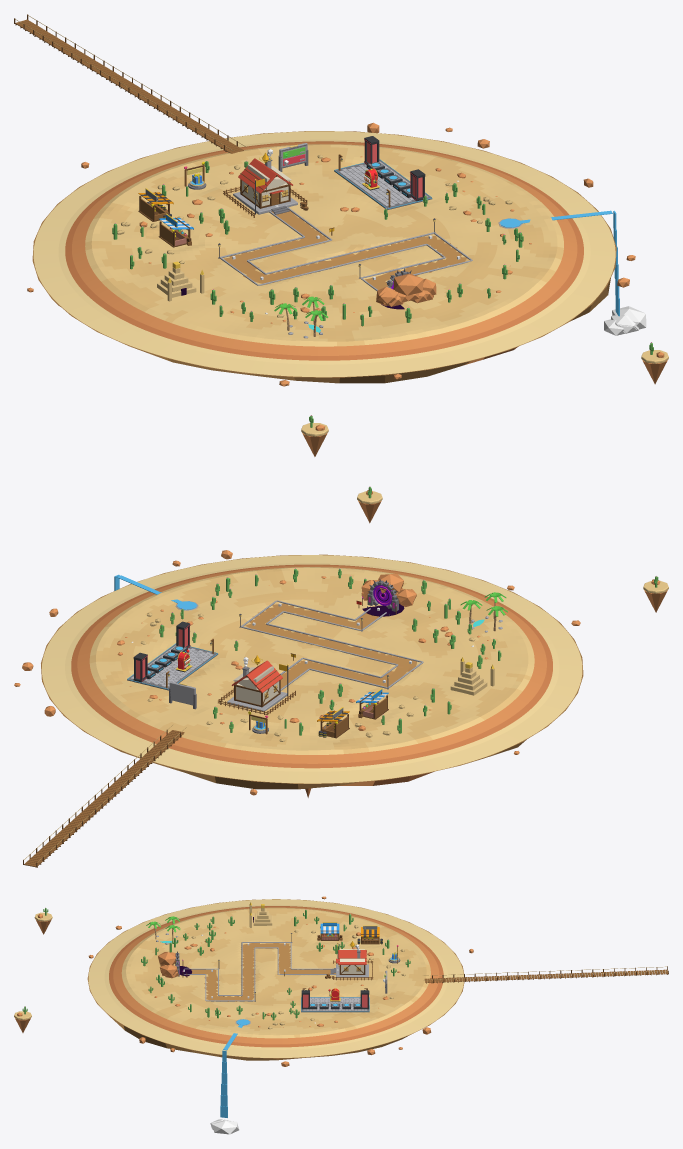
Rendered from Isla4_Desierto.glb.
The picture shows the model from 3 angles, top to bottom: view 1: azimuth 30°, elevation 25°; view 2: azimuth 150°, elevation 25°; view 3: azimuth 270°, elevation 25°; orthographic projection. The views are drawn at different scales.
Visible parts, largest first — view 1: Isla4_Desierto_Terreno, Isla4_Desierto_Base_Flotante, Isla4_Desierto_Casa, Isla4_Desierto_Palanca_Zona, Isla4_Desierto_Portal, Isla4_Desierto_Monumento, Isla4_Desierto_Detalles_8, Puente_4_8, Isla4_Desierto_Tienda_Puesto, Isla4_Desierto_Detalles_7, Isla4_Desierto_Equipamientos_Puesto; view 2: Isla4_Desierto_Terreno, Isla4_Desierto_Base_Flotante, Isla4_Desierto_Casa, Isla4_Desierto_Palanca_Zona, Isla4_Desierto_Portal, Isla4_Desierto_Monumento, Isla4_Desierto_Equipamientos_Puesto, Isla4_Desierto_Tienda_Puesto, Puente_4_8; view 3: Isla4_Desierto_Terreno, Isla4_Desierto_Base_Flotante, Isla4_Desierto_Casa, Isla4_Desierto_Palanca_Zona, Isla4_Desierto_Portal, Isla4_Desierto_Detalles_8, Puente_4_8, Isla4_Desierto_Equipamientos_Puesto, Isla4_Desierto_Detalles_7, Isla4_Desierto_Monumento, Isla4_Desierto_Tienda_Puesto.
Part boxes in pixels (x1,y1,x2,y2): Isla4_Desierto_Terreno: [33, 131, 615, 377]; Isla4_Desierto_Base_Flotante: [32, 131, 616, 383]; Isla4_Desierto_Casa: [223, 149, 307, 217]; Isla4_Desierto_Palanca_Zona: [334, 136, 432, 209]; Isla4_Desierto_Portal: [376, 268, 436, 309]; Isla4_Desierto_Monumento: [157, 261, 204, 301]; Isla4_Desierto_Detalles_8: [611, 279, 646, 333]; Puente_4_8: [15, 15, 246, 150]; Isla4_Desierto_Tienda_Puesto: [158, 213, 193, 247]; Isla4_Desierto_Detalles_7: [520, 210, 624, 335]; Isla4_Desierto_Equipamientos_Puesto: [138, 188, 173, 221]; Isla4_Desierto_Terreno: [41, 555, 582, 783]; Isla4_Desierto_Base_Flotante: [41, 554, 583, 789]; Isla4_Desierto_Casa: [218, 655, 295, 714]; Isla4_Desierto_Palanca_Zona: [127, 621, 218, 690]; Isla4_Desierto_Portal: [361, 574, 416, 616]; Isla4_Desierto_Monumento: [450, 657, 494, 695]; Isla4_Desierto_Equipamientos_Puesto: [317, 707, 349, 738]; Isla4_Desierto_Tienda_Puesto: [356, 688, 388, 719]; Puente_4_8: [24, 724, 186, 862]; Isla4_Desierto_Terreno: [88, 899, 463, 1057]; Isla4_Desierto_Base_Flotante: [87, 899, 464, 1060]; Isla4_Desierto_Casa: [330, 941, 373, 980]; Isla4_Desierto_Palanca_Zona: [301, 988, 369, 1012]; Isla4_Desierto_Portal: [158, 951, 191, 978]; Isla4_Desierto_Detalles_8: [210, 1095, 239, 1134]; Puente_4_8: [422, 966, 667, 980]; Isla4_Desierto_Equipamientos_Puesto: [357, 925, 382, 944]; Isla4_Desierto_Detalles_7: [219, 1024, 243, 1120]; Isla4_Desierto_Monumento: [249, 902, 272, 927]; Isla4_Desierto_Tienda_Puesto: [317, 922, 342, 940].
Bounding box in the file's own units: 150 × 44.97 × 244.
1 material, 1 textured.
